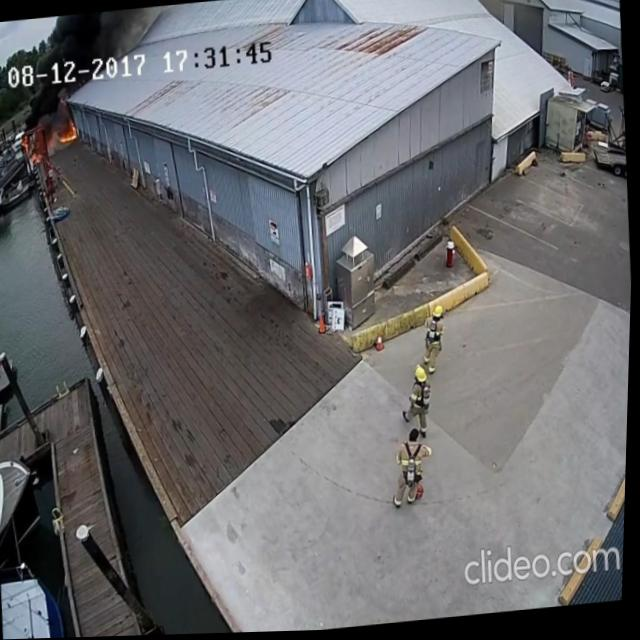fire: (17, 129, 44, 172), (53, 119, 81, 147)
